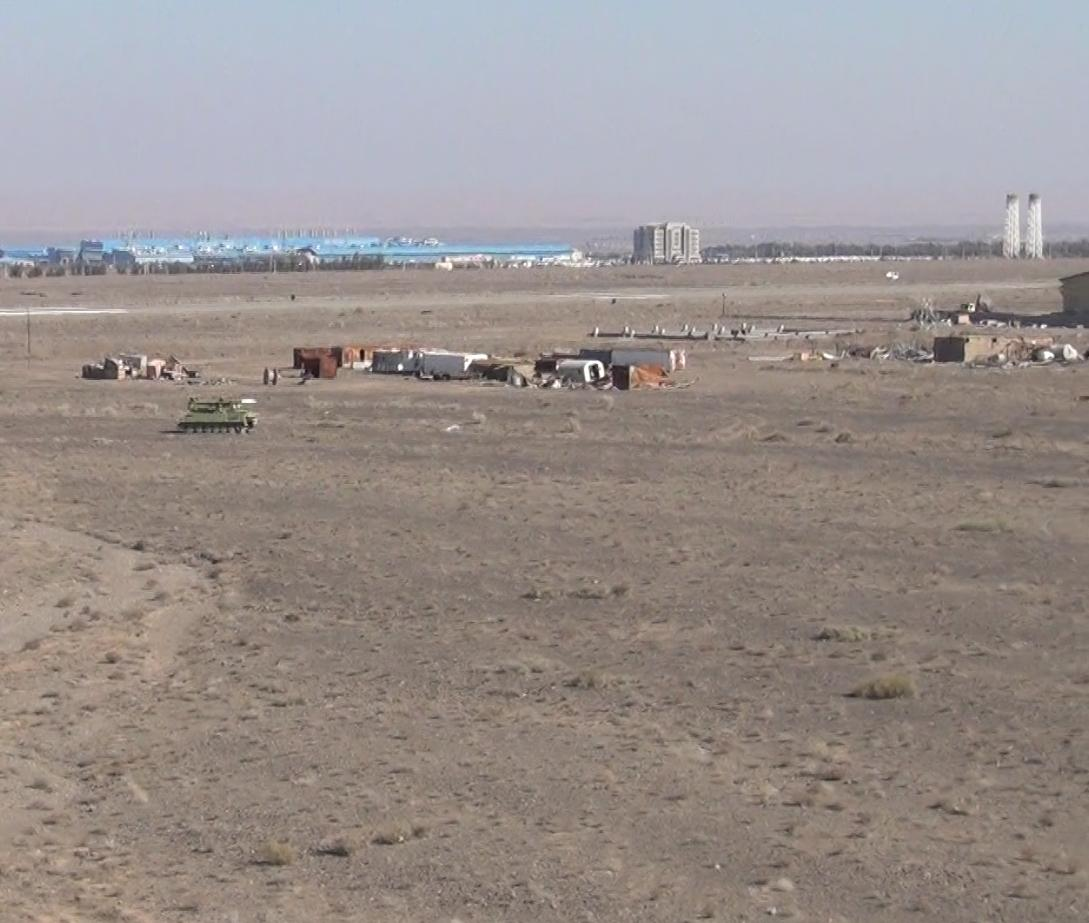armored_car: (172, 392, 262, 439)
